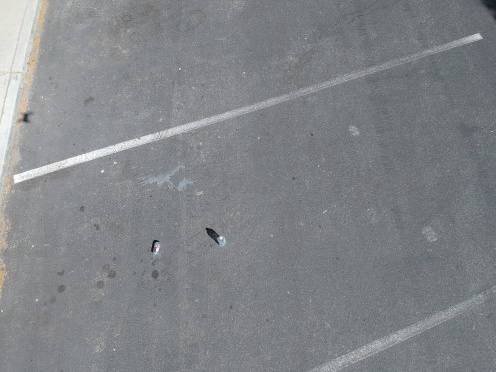bottle: (212, 234, 226, 249)
can: (149, 238, 166, 258)
